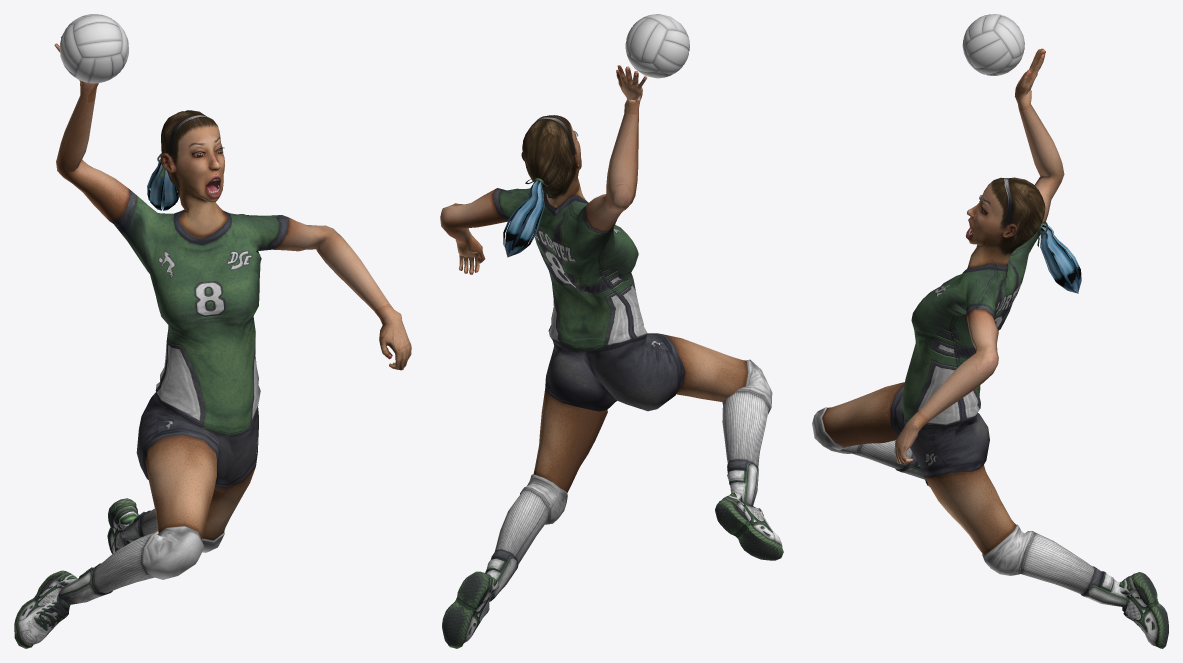
The model's file is Volleyball.glb.
3 views of the same model, side by side, from view 1: azimuth 30°, elevation 25°; view 2: azimuth 150°, elevation 25°; view 3: azimuth 270°, elevation 25° (orthographic). The views are drawn at different scales.
Parts seen in each view (by area): view 1: unnamed (×5); view 2: unnamed (×5); view 3: unnamed (×5).
Boxes of the visible parts, x1,y1,x2,y2 form: unnamed (×5): [14, 14, 411, 648]; unnamed (×5): [440, 14, 783, 648]; unnamed (×5): [812, 14, 1168, 648].
Bounding box in the file's own units: 14.71 × 24.26 × 13.64.
Materials: 7 (7 with a texture image).
